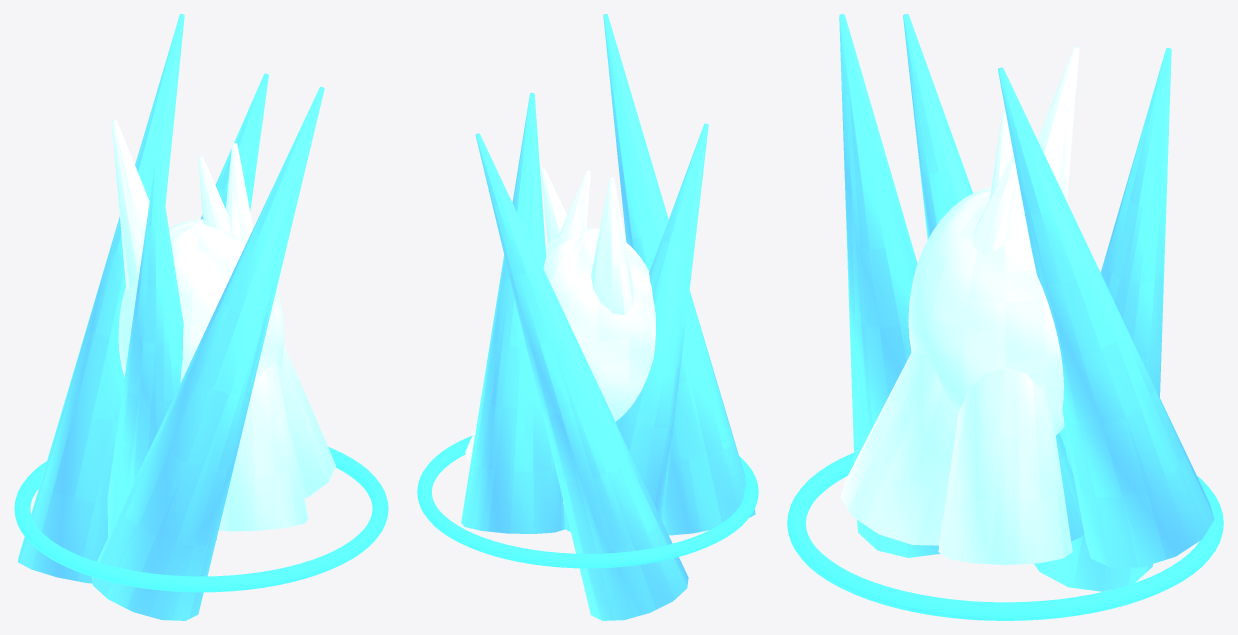
File: spell_frost_crystal.glb
3 views of the same model, side by side, from view 1: azimuth 30°, elevation 25°; view 2: azimuth 150°, elevation 25°; view 3: azimuth 270°, elevation 25° (orthographic). The views are drawn at different scales.
Visible parts, largest first — view 1: IceShard_5, IceShard_2, IceShard_4, IceShard_6, FrostRuneBase, FrostCore, IceShard_0, IceShard_3, IceShard_1; view 2: IceShard_2, IceShard_1, IceShard_5, IceShard_4, FrostCore, FrostRuneBase, IceShard_3, IceShard_0, IceShard_6; view 3: IceShard_1, FrostCore, IceShard_0, IceShard_5, IceShard_6, IceShard_2, FrostRuneBase, IceShard_4, IceShard_3.
Boxes of the visible parts, bbox=[...] form: IceShard_5: bbox=[91, 87, 324, 620]; IceShard_2: bbox=[18, 14, 184, 583]; IceShard_4: bbox=[107, 167, 216, 540]; IceShard_6: bbox=[218, 143, 308, 531]; FrostRuneBase: bbox=[14, 447, 388, 592]; FrostCore: bbox=[118, 219, 284, 382]; IceShard_0: bbox=[198, 156, 335, 497]; IceShard_3: bbox=[111, 119, 149, 289]; IceShard_1: bbox=[201, 73, 268, 219]; IceShard_2: bbox=[475, 133, 688, 620]; IceShard_1: bbox=[461, 93, 565, 533]; IceShard_5: bbox=[603, 14, 755, 535]; IceShard_4: bbox=[563, 123, 708, 532]; FrostCore: bbox=[543, 228, 655, 421]; FrostRuneBase: bbox=[417, 436, 758, 568]; IceShard_3: bbox=[591, 177, 634, 315]; IceShard_0: bbox=[465, 170, 590, 463]; IceShard_6: bbox=[540, 168, 567, 243]; IceShard_1: bbox=[998, 67, 1214, 567]; FrostCore: bbox=[908, 187, 1064, 434]; IceShard_0: bbox=[938, 112, 1072, 564]; IceShard_5: bbox=[839, 14, 940, 557]; IceShard_6: bbox=[840, 154, 1019, 545]; IceShard_2: bbox=[1034, 48, 1171, 591]; FrostRuneBase: bbox=[787, 452, 1223, 620]; IceShard_4: bbox=[903, 14, 1084, 541]; IceShard_3: bbox=[1037, 46, 1079, 201].
Size of the model in its own units: 1.17 by 1.87 by 1.17.
3 materials, 3 textured.
